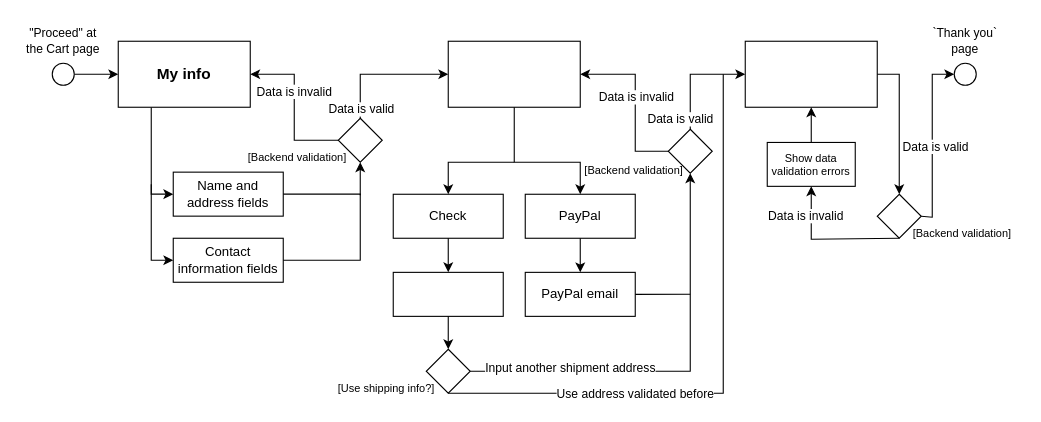
Image size: 1041x422. Some labels were removed from this diagram. The centre of each missing label's shape, as x and y in pixels:
"Check's shipment address" belongs at (447,293).
"Confirm" belongs at (810,73).
"Payment" belongs at (513,73).
